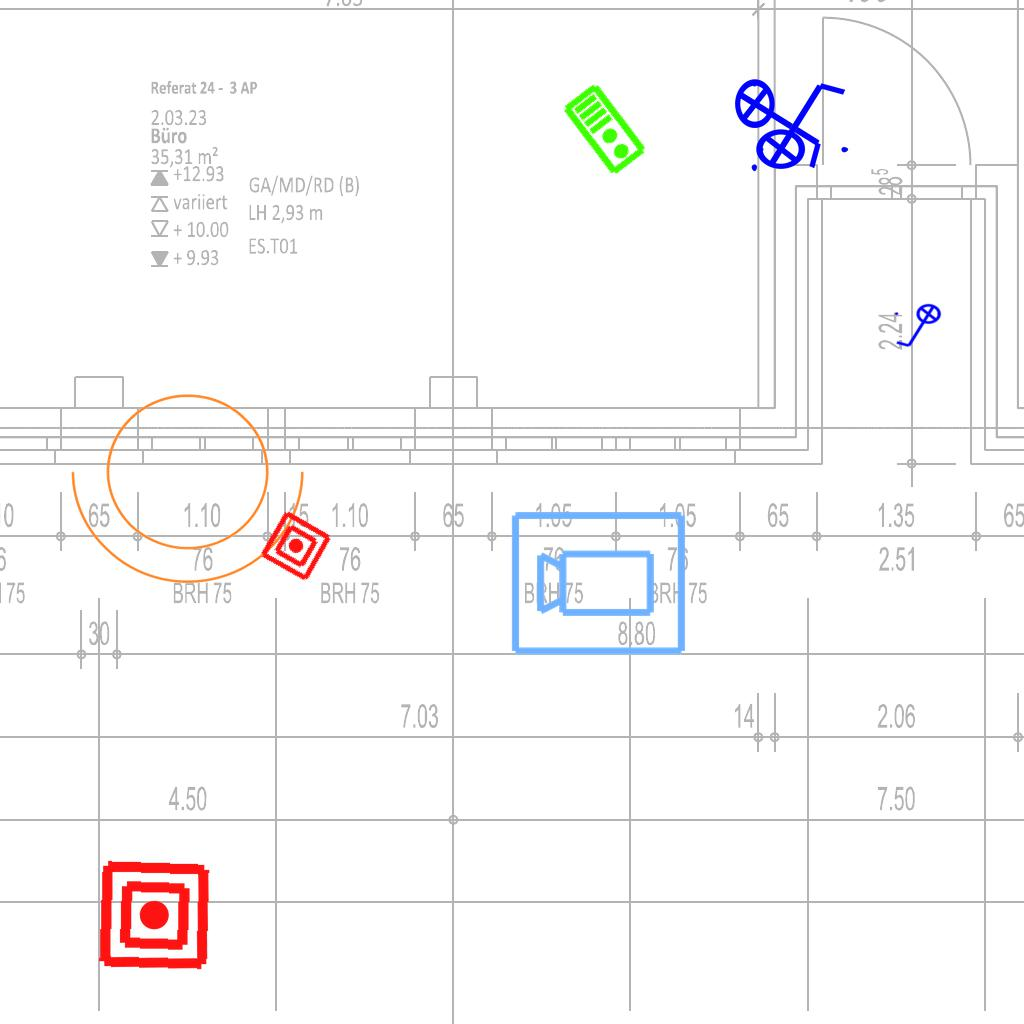Ausschalter_beleuchtet: (733, 65, 829, 177), (742, 75, 854, 171), (892, 303, 948, 351)
Gegensprechanlage_mit_Video: (560, 79, 651, 179)
KFO_Kamera_mit_Festobjektiv: (508, 505, 690, 659)
NAM-Nichtautomatischer_Melder: (96, 857, 213, 974), (257, 507, 335, 585)
Scheinwerfer_fuer_Alarmbeleuchtung: (62, 369, 326, 594)
